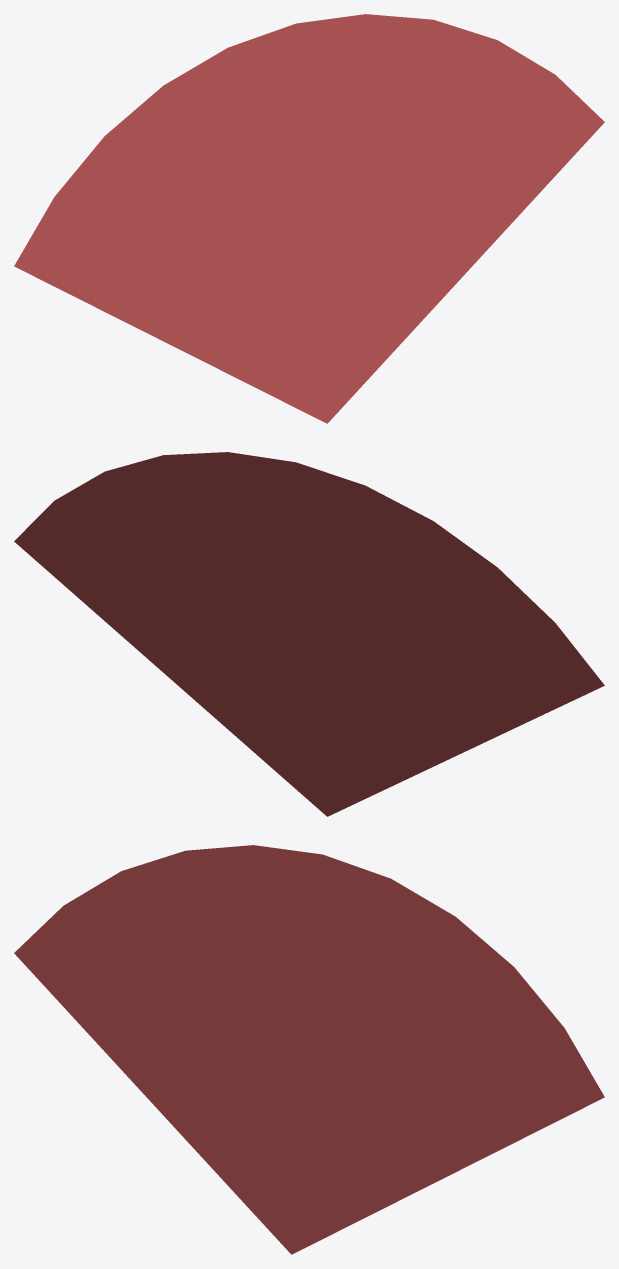
The model's file is fan.glb.
The picture shows the model from 3 angles, top to bottom: view 1: azimuth 30°, elevation 25°; view 2: azimuth 150°, elevation 25°; view 3: azimuth 330°, elevation 25°; orthographic projection.
Parts seen in each view (by area): view 1: Prop_Fan; view 2: Prop_Fan; view 3: Prop_Fan.
Part boxes in pixels (<box>): Prop_Fan: <box>14,14,604,423</box>; Prop_Fan: <box>14,452,604,816</box>; Prop_Fan: <box>14,845,604,1254</box>.
Bounding box in the file's own units: 0.2621 × 0.16 × 0.024.
